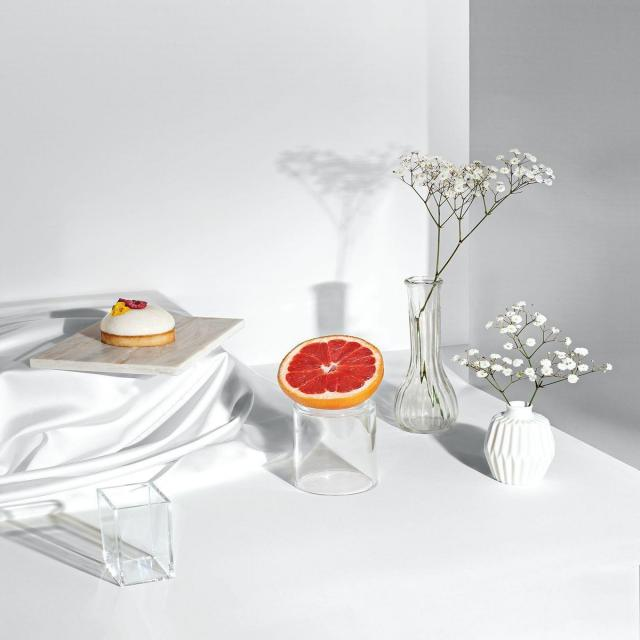glass-normal: (96, 483, 180, 586), (290, 402, 380, 498)
